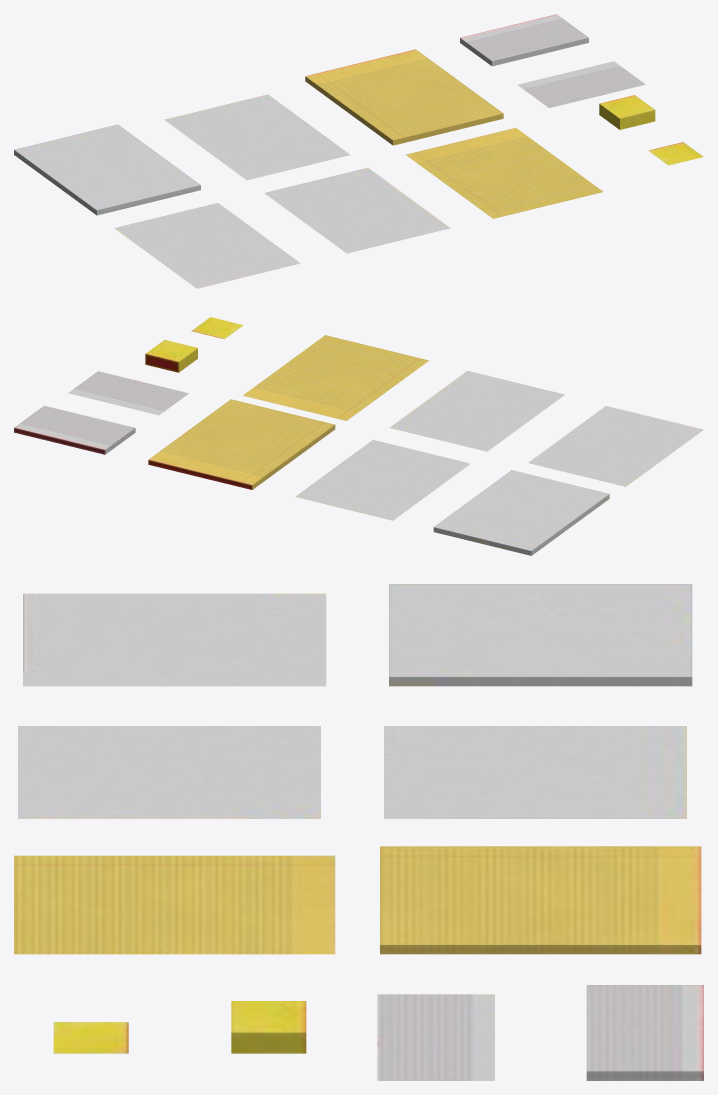
The model's file is office_notepads.glb.
The picture shows the model from 3 angles, top to bottom: view 1: azimuth 30°, elevation 25°; view 2: azimuth 150°, elevation 25°; view 3: azimuth 270°, elevation 25°; orthographic projection. The views are drawn at different scales.
Parts seen in each view (by area): view 1: office_notepads_yellow_pad, office_notepads_yellow_sheet, office_notepads_a4_stack, office_notepads_a4_a, office_notepads_a4_c, office_notepads_a4_b, office_notepads_note_stack, office_notepads_note_sheet, office_notepads_sticky_stack, office_notepads_sticky_sheet; view 2: office_notepads_yellow_pad, office_notepads_yellow_sheet, office_notepads_a4_stack, office_notepads_a4_b, office_notepads_a4_c, office_notepads_a4_a, office_notepads_note_stack, office_notepads_note_sheet, office_notepads_sticky_stack, office_notepads_sticky_sheet; view 3: office_notepads_yellow_pad, office_notepads_yellow_sheet, office_notepads_a4_stack, office_notepads_a4_a, office_notepads_a4_b, office_notepads_a4_c, office_notepads_note_stack, office_notepads_note_sheet, office_notepads_sticky_stack, office_notepads_sticky_sheet.
Boxes of the visible parts, <box> form: office_notepads_yellow_pad: <box>305,49,503,145</box>; office_notepads_yellow_sheet: <box>406,127,603,218</box>; office_notepads_a4_stack: <box>14,124,200,215</box>; office_notepads_a4_a: <box>114,203,300,288</box>; office_notepads_a4_c: <box>264,167,450,253</box>; office_notepads_a4_b: <box>164,94,350,180</box>; office_notepads_note_stack: <box>460,14,588,66</box>; office_notepads_note_sheet: <box>517,61,645,108</box>; office_notepads_sticky_stack: <box>599,95,655,129</box>; office_notepads_sticky_sheet: <box>648,142,703,165</box>; office_notepads_yellow_pad: <box>148,399,335,489</box>; office_notepads_yellow_sheet: <box>243,335,428,420</box>; office_notepads_a4_stack: <box>433,470,609,555</box>; office_notepads_a4_b: <box>295,440,470,520</box>; office_notepads_a4_c: <box>389,371,564,451</box>; office_notepads_a4_a: <box>528,406,703,486</box>; office_notepads_note_stack: <box>14,405,135,454</box>; office_notepads_note_sheet: <box>68,371,188,415</box>; office_notepads_sticky_stack: <box>145,340,197,372</box>; office_notepads_sticky_sheet: <box>191,317,243,339</box>; office_notepads_yellow_pad: <box>380,846,701,954</box>; office_notepads_yellow_sheet: <box>14,855,335,954</box>; office_notepads_a4_stack: <box>389,584,692,686</box>; office_notepads_a4_a: <box>23,593,326,686</box>; office_notepads_a4_b: <box>384,726,686,818</box>; office_notepads_a4_c: <box>18,726,320,818</box>; office_notepads_note_stack: <box>586,985,703,1080</box>; office_notepads_note_sheet: <box>377,994,494,1080</box>; office_notepads_sticky_stack: <box>231,1001,306,1053</box>; office_notepads_sticky_sheet: <box>53,1022,128,1053</box>.
Size of the model in its own units: 1.1 by 0.022 by 0.6598.
Materials: 1 (1 with a texture image).
